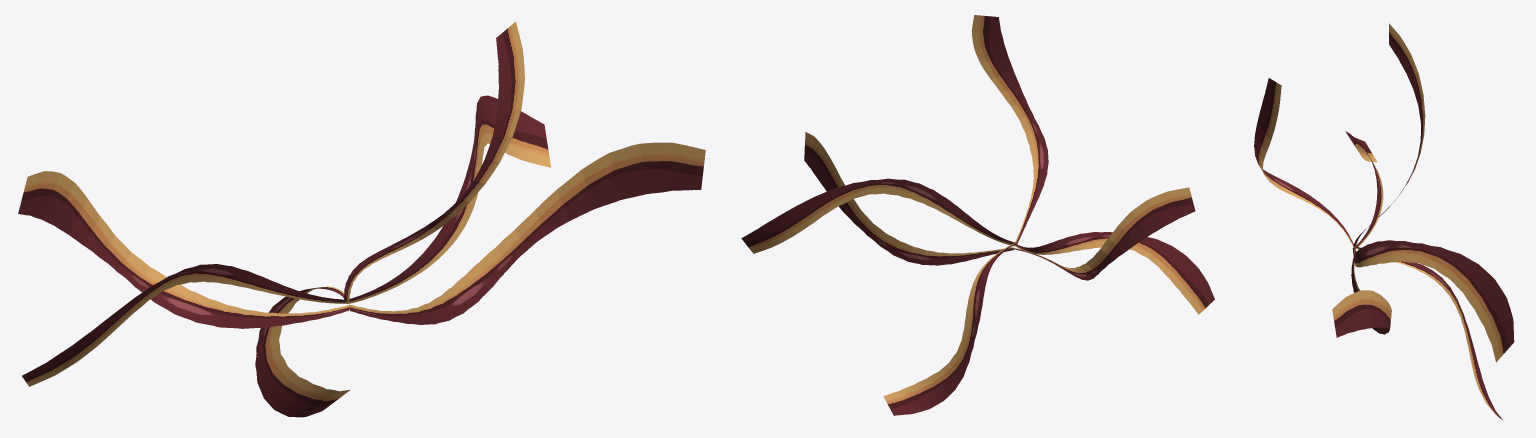
Rendered from fx_m10908_skill01.fbx.
The picture shows the model from 3 angles, left to right: view 1: azimuth 30°, elevation 25°; view 2: azimuth 150°, elevation 25°; view 3: azimuth 270°, elevation 25°; orthographic projection. The views are drawn at different scales.
Visible parts, largest first — view 1: helix; view 2: helix; view 3: helix.
Boxes of the visible parts, x1=… form: helix: x1=18, y1=21, x2=705, y2=417; helix: x1=741, y1=15, x2=1214, y2=415; helix: x1=1254, y1=23, x2=1514, y2=420.
Size of the model in its own units: 1598 by 1161 by 807.
Materials: 1 (1 with a texture image).
